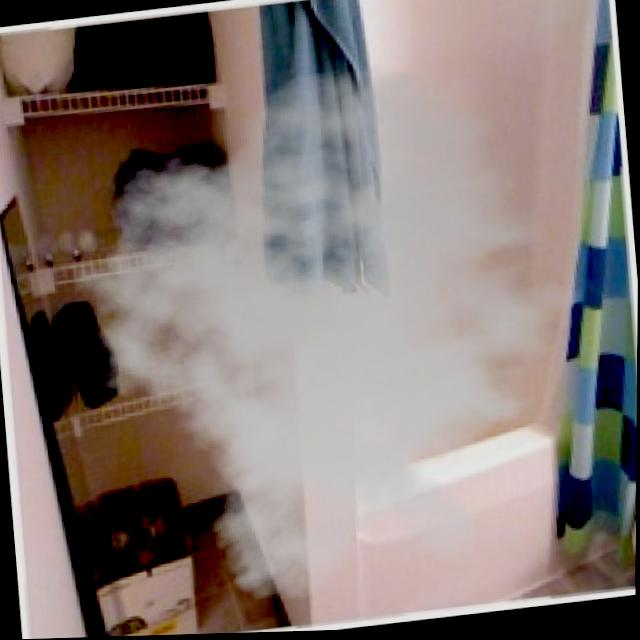Smoke: (44, 42, 629, 628)
